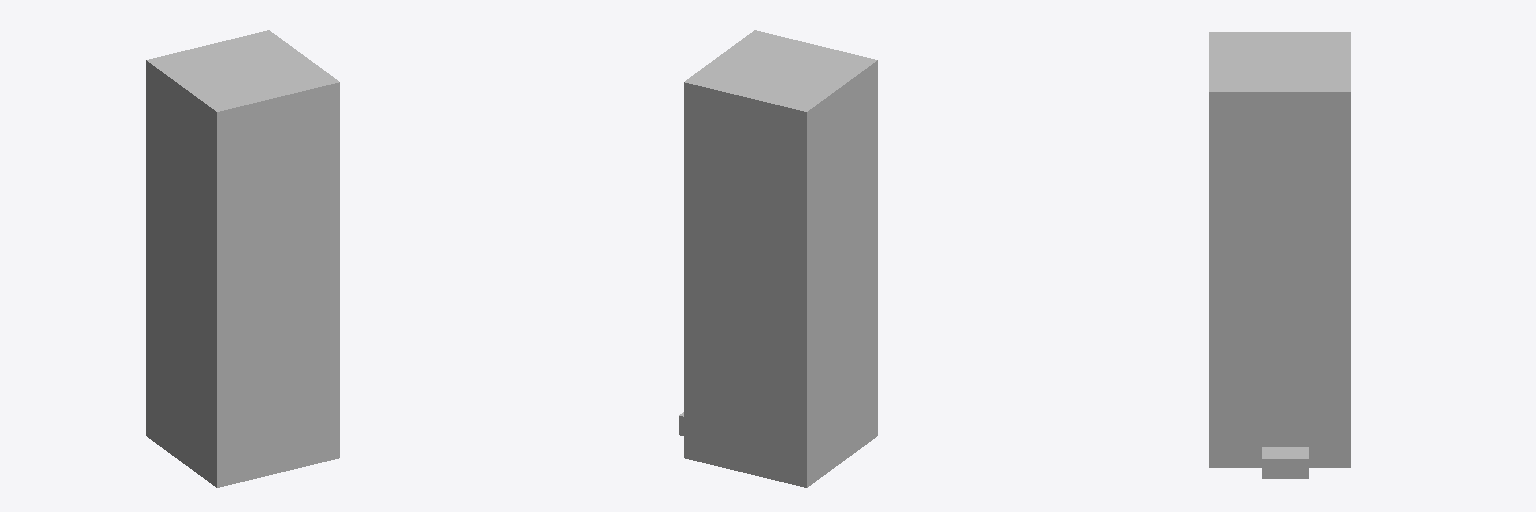
Rendered from Edificio.obj.
The picture shows the model from 3 angles: view 1: azimuth 30°, elevation 25°; view 2: azimuth 150°, elevation 25°; view 3: azimuth 270°, elevation 25°; orthographic projection.
Visible parts, largest first — view 1: Edificio_Cube.003; view 2: Edificio_Cube.003; view 3: Edificio_Cube.003.
Boxes of the visible parts, x1,y1,x2,y2 form: Edificio_Cube.003: [146, 30, 339, 487]; Edificio_Cube.003: [679, 30, 877, 487]; Edificio_Cube.003: [1209, 32, 1350, 478].
Bounding box in the file's own units: 2.42 × 5.84 × 2.